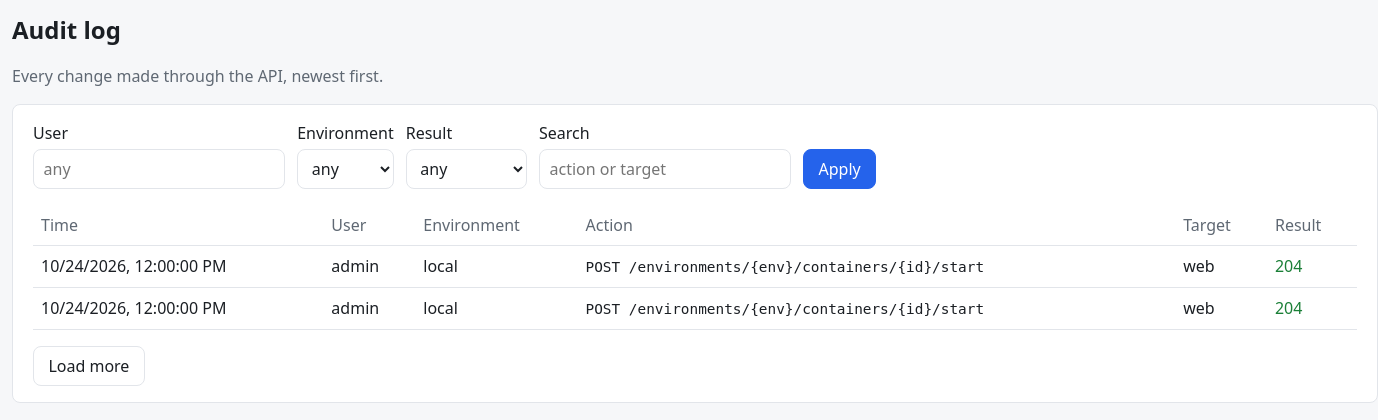
Test case: AuditView › loads the next page
Click the button with class "more": {"x": 89, "y": 366} [33,346,145,386]
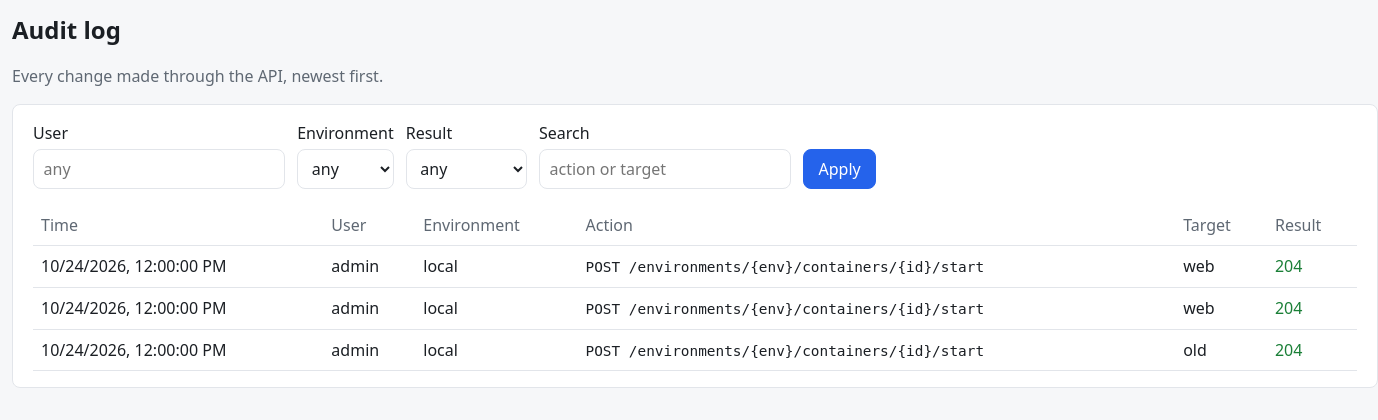
Check: the text "old" is shown, box [1175,329,1267,371]
